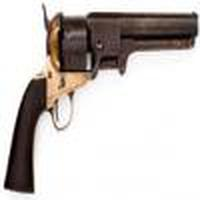gun: (2, 10, 199, 191)
